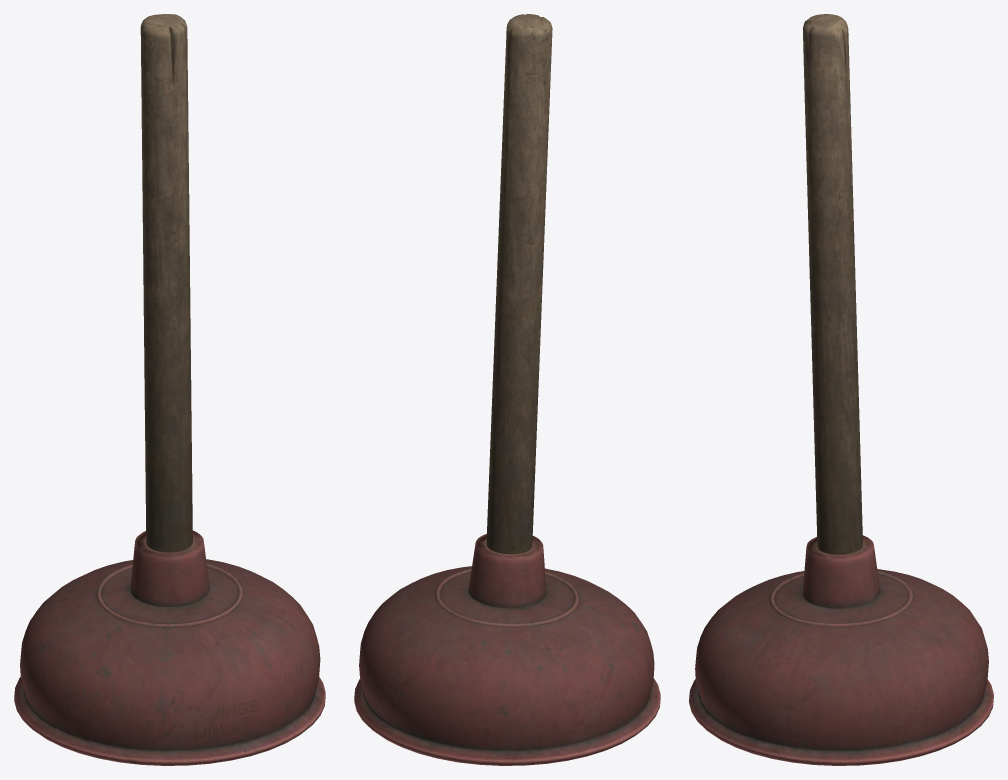
File: plunger.glb
3 views of the same model, side by side, from view 1: azimuth 30°, elevation 25°; view 2: azimuth 150°, elevation 25°; view 3: azimuth 270°, elevation 25° (orthographic). The views are drawn at different scales.
Visible parts, largest first — view 1: plunger; view 2: plunger; view 3: plunger.
Boxes of the visible parts, x1,y1,x2,y2 form: plunger: (14,14,325,765); plunger: (354,14,660,765); plunger: (689,14,993,765).
Size of the model in its own units: 0.1721 by 0.4211 by 0.1721.
Materials: 1 (1 with a texture image).
